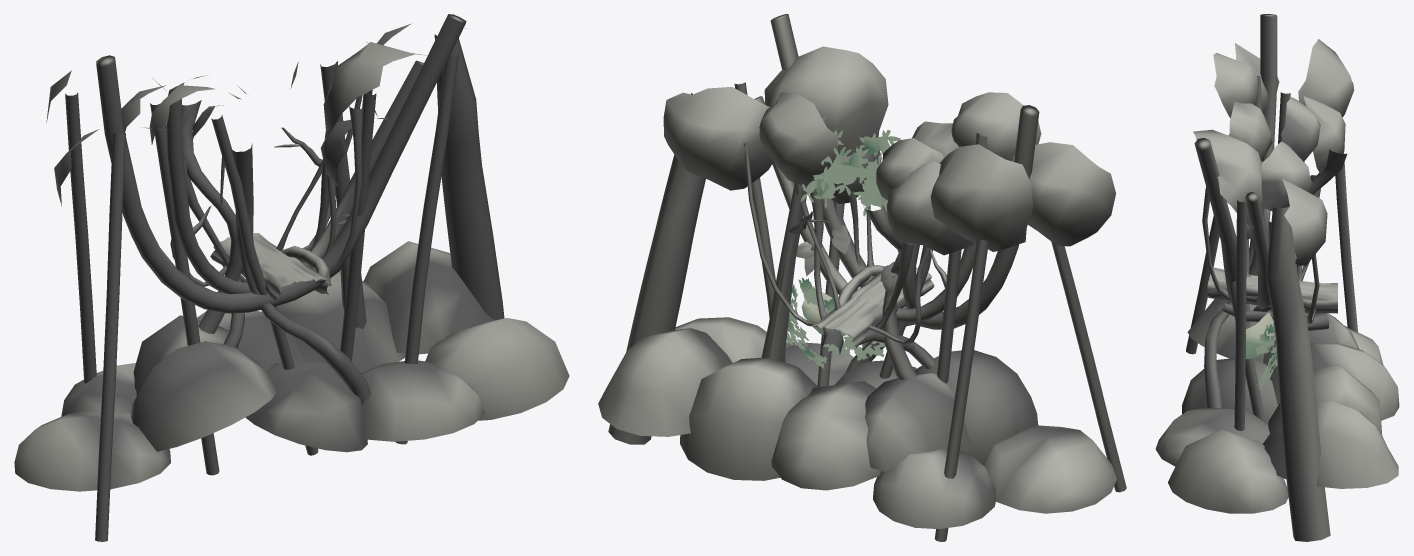
Rendered from Jungle_Canopy_Curve_Right_A.glb.
The picture shows the model from 3 angles, left to right: view 1: azimuth 30°, elevation 25°; view 2: azimuth 150°, elevation 25°; view 3: azimuth 270°, elevation 25°; orthographic projection. The views are drawn at different scales.
Visible parts, largest first — view 1: Jungle_Canopy_Curve_Right_A; view 2: Jungle_Canopy_Curve_Right_A; view 3: Jungle_Canopy_Curve_Right_A.
Boxes of the visible parts, x1,y1,x2,y2 form: Jungle_Canopy_Curve_Right_A: [14, 14, 569, 541]; Jungle_Canopy_Curve_Right_A: [598, 14, 1126, 541]; Jungle_Canopy_Curve_Right_A: [1155, 14, 1399, 541].
Bounding box in the file's own units: 38.47 × 31.37 × 19.06.
